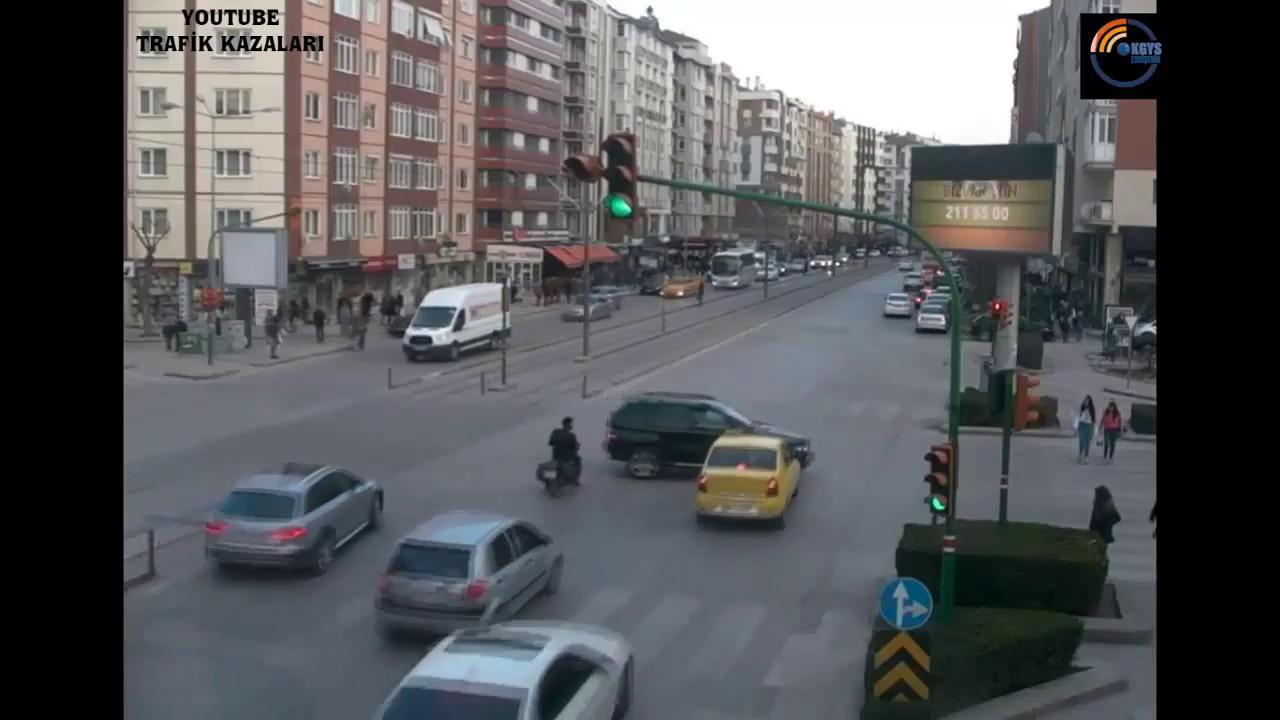car-accident: (605, 390, 828, 530)
